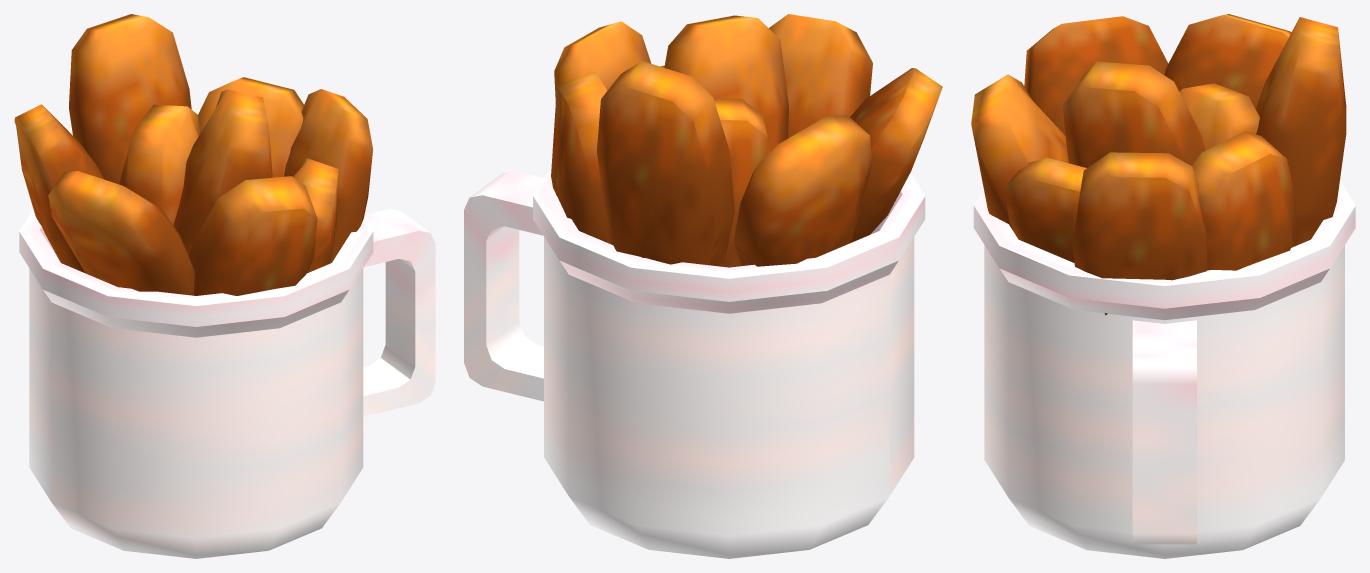
Rendered from 6060c255-ed27-43c3-8fbf-530979c61ebb.glb.
The picture shows the model from 3 angles, left to right: view 1: azimuth 30°, elevation 25°; view 2: azimuth 150°, elevation 25°; view 3: azimuth 270°, elevation 25°; orthographic projection. The views are drawn at different scales.
Visible parts, largest first — view 1: BarFoodAndSnacksChickenBreading; view 2: BarFoodAndSnacksChickenBreading; view 3: BarFoodAndSnacksChickenBreading.
Boxes of the visible parts, x1,y1,x2,y2 form: BarFoodAndSnacksChickenBreading: (14, 14, 435, 558); BarFoodAndSnacksChickenBreading: (464, 14, 942, 558); BarFoodAndSnacksChickenBreading: (971, 14, 1355, 558).
Size of what is drawn, in the model's own units: 0.2109 by 0.2259 by 0.1696.
Materials: 1 (1 with a texture image).
